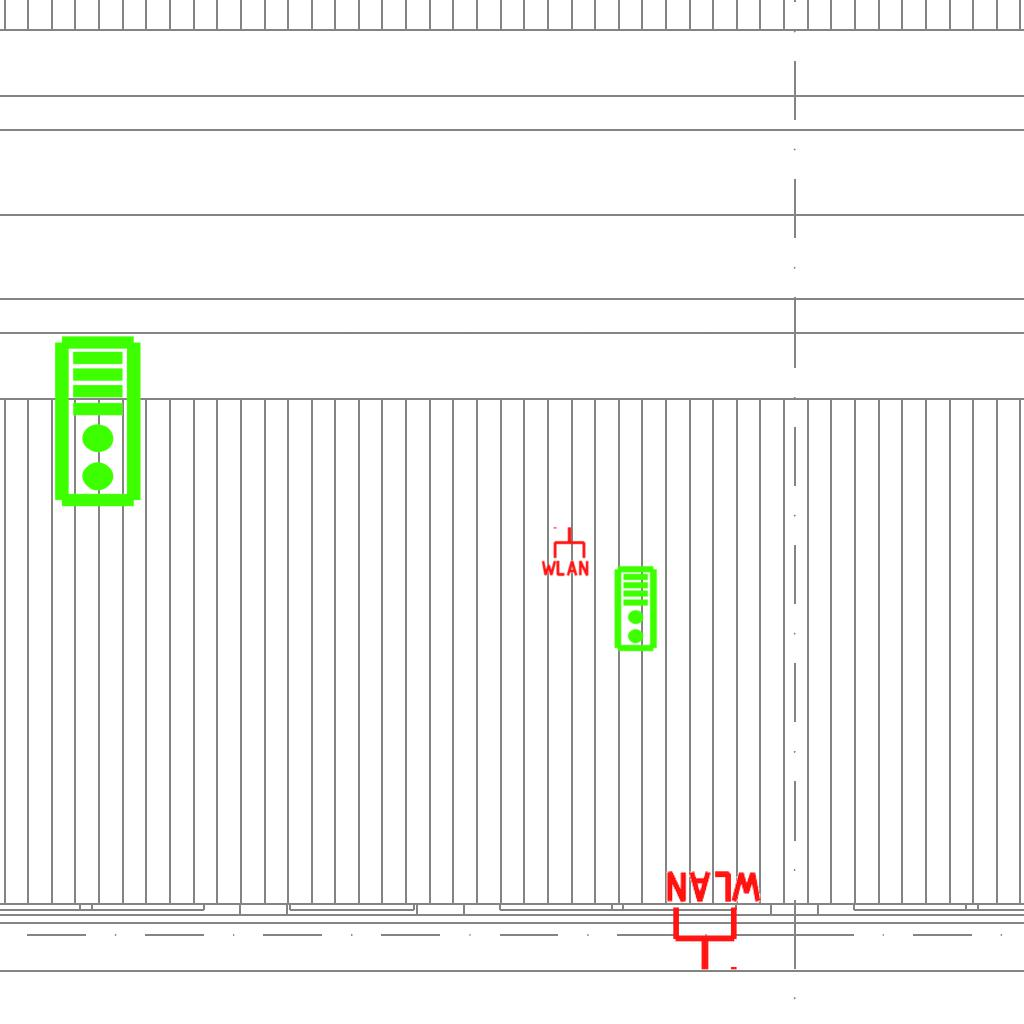Gegensprechanlage_mit_Video: (52, 334, 147, 510), (613, 565, 660, 653)
WLAN: (662, 869, 766, 974), (539, 525, 591, 577)
